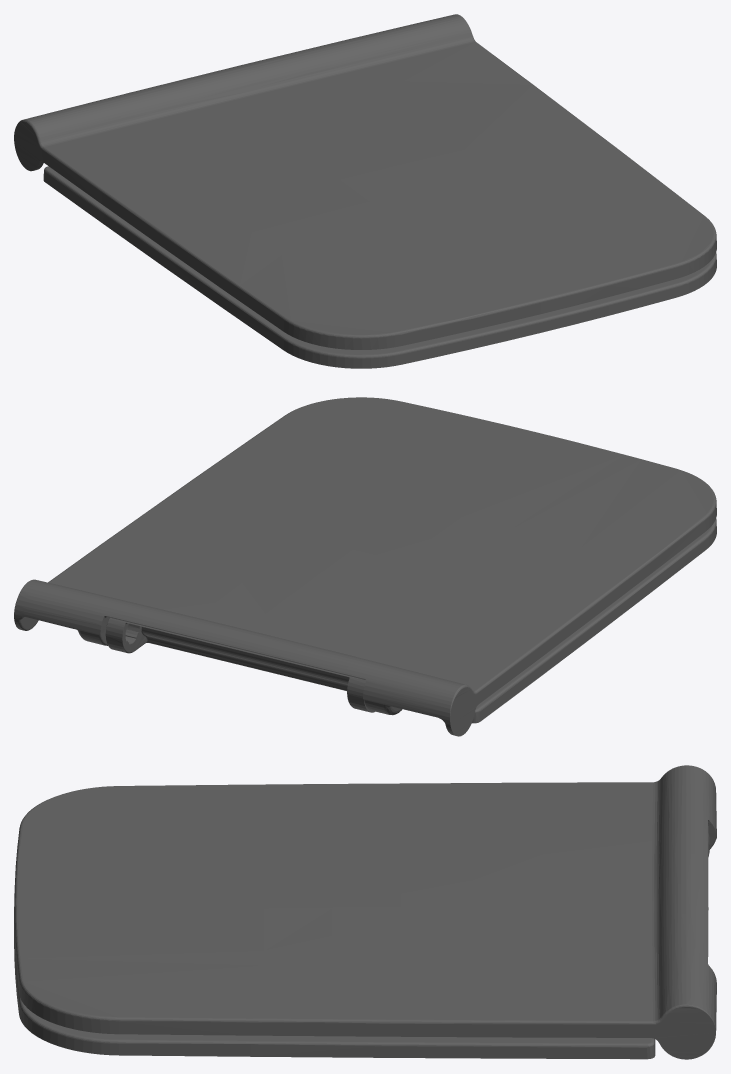
Rendered from AEC_46405.glb.
3 renders of one model, top to bottom at view 1: azimuth 30°, elevation 25°; view 2: azimuth 150°, elevation 25°; view 3: azimuth 270°, elevation 25°, orthographic. The views are drawn at different scales.
Visible parts, largest first — view 1: 0; view 2: 0; view 3: 0.
Part boxes in pixels (x1=…): 0: x1=14, y1=14, x2=716, y2=368; 0: x1=14, y1=397, x2=716, y2=736; 0: x1=14, y1=765, x2=716, y2=1059.
Size of the model in its own units: 0.3675 by 0.051 by 0.4506.
Materials: 1 (1 with a texture image).
